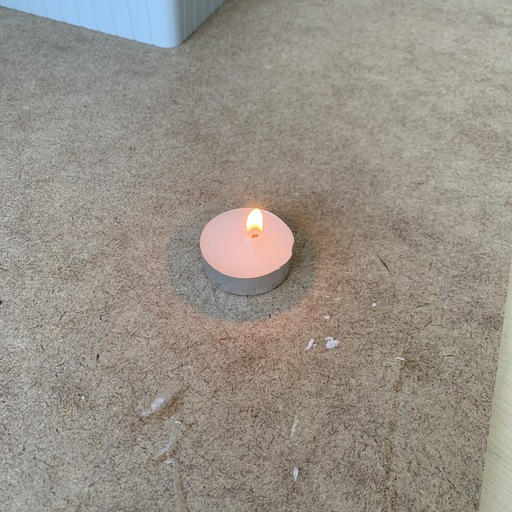fire: (238, 206, 269, 243)
